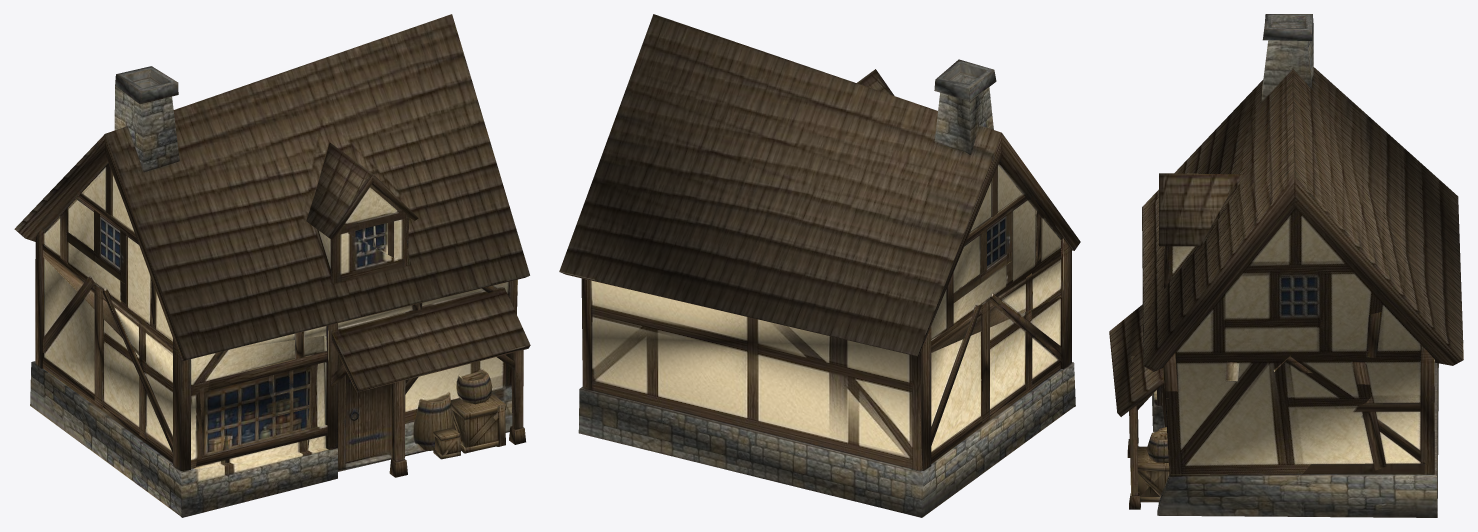
The model's file is building-store.glb.
3 renders of one model, left to right at view 1: azimuth 30°, elevation 25°; view 2: azimuth 150°, elevation 25°; view 3: azimuth 270°, elevation 25°, orthographic. The views are drawn at different scales.
Bounding box in the file's own units: 0.9385 × 0.9531 × 0.8604.
1 material, 1 textured.
